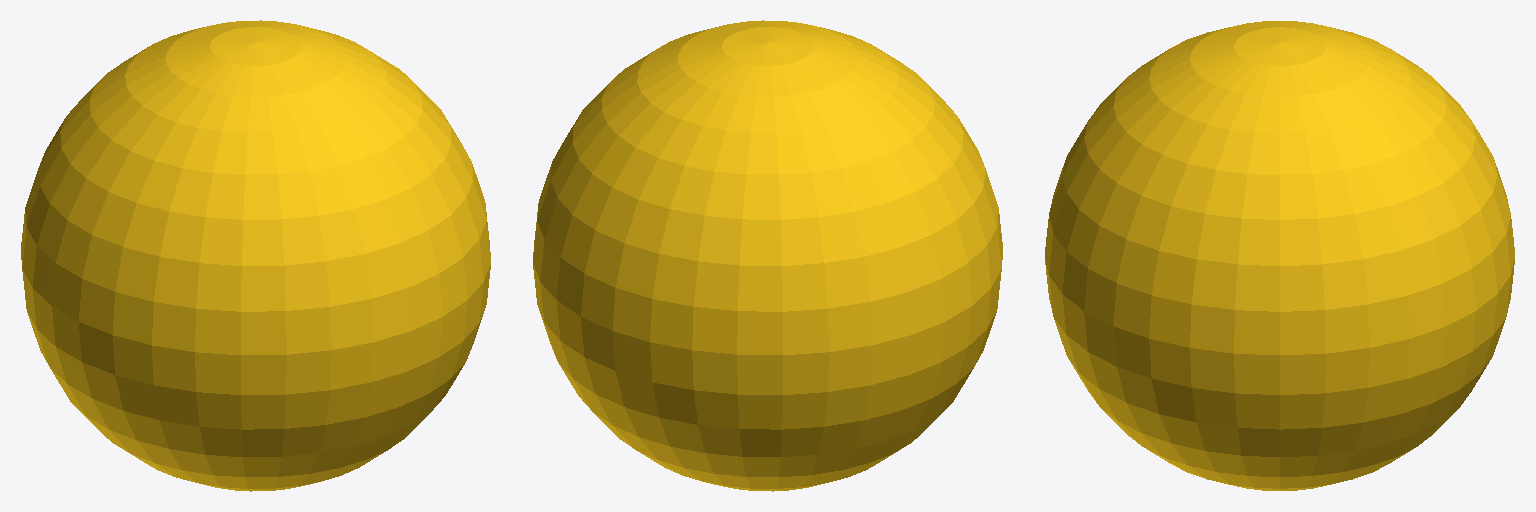
URDF robot description (sphere):
<?xml version="1.0" ?>
<robot name="sphere">
  <material name = "dark-yellow">
    <color rgba = "1.0 0.8196078431 0.1450980392 1" />
  </material>

  <link name="sphere_link">
    <inertial>
      <origin rpy="0 0 0" xyz="0 0 0"/>
      <mass value="0"/>
      <inertia ixx="0" ixy="0" ixz="0" iyy="0" iyz="0" izz="0"/>
    </inertial>
    <visual>
      <origin rpy="0 0 0" xyz="0 0 0"/>
      <geometry>
        <sphere radius="0.15"/>
      </geometry>
      <material name="dark-yellow"/>
    </visual>
  </link>
</robot>

--- Facts derived from the render (not from the file) ---
The picture shows the robot from 3 angles, left to right: view 1: azimuth 30°, elevation 25°; view 2: azimuth 150°, elevation 25°; view 3: azimuth 270°, elevation 25°; orthographic projection.
Robot: sphere — 1 links, 0 joints (none); root link sphere_link; default pose: all joints at 0.
Links seen in each view (by area): view 1: sphere_link; view 2: sphere_link; view 3: sphere_link.
Boxes of the visible links, bbox=[...] form: sphere_link: bbox=[21, 20, 490, 491]; sphere_link: bbox=[533, 20, 1002, 491]; sphere_link: bbox=[1045, 21, 1514, 490].
Bounding box of the posed robot: 0.3 × 0.3 × 0.3 m (x, y, z).
Geometry: primitives only (box / cylinder / sphere), no mesh files.